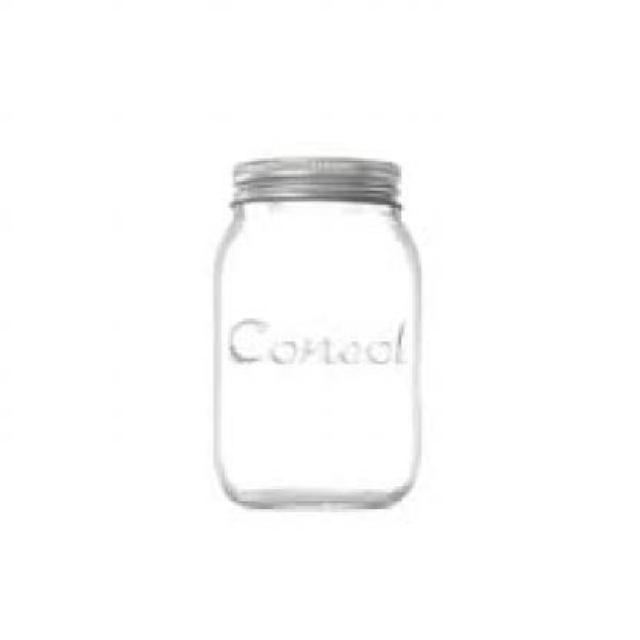kaca: (214, 200, 418, 505)
